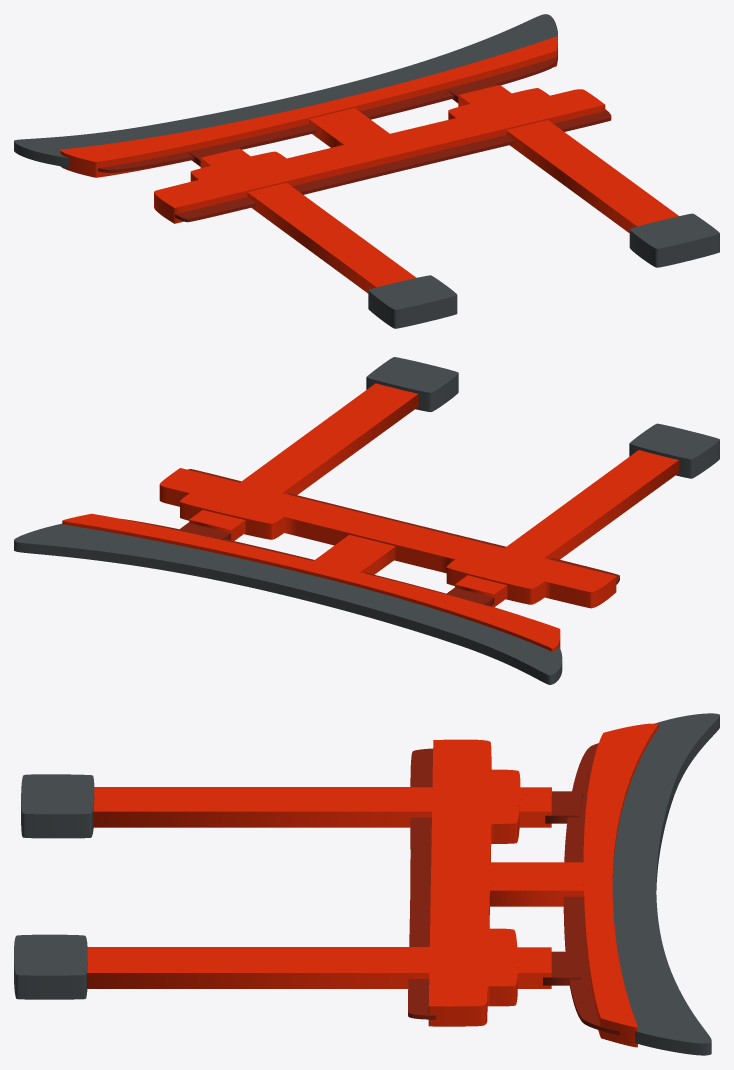
The model's file is emoji_u26e9.glb.
The picture shows the model from 3 angles, top to bottom: view 1: azimuth 30°, elevation 25°; view 2: azimuth 150°, elevation 25°; view 3: azimuth 270°, elevation 25°; orthographic projection. The views are drawn at different scales.
Visible parts, largest first — view 1: emoji_u26e9; view 2: emoji_u26e9; view 3: emoji_u26e9.
Boxes of the visible parts, box(x1,y1,x2,y2) form: emoji_u26e9: box(14, 14, 719, 328); emoji_u26e9: box(14, 357, 719, 684); emoji_u26e9: box(14, 713, 719, 1055).
Size of the model in its own units: 0.0353 by 0.0012 by 0.0319.
